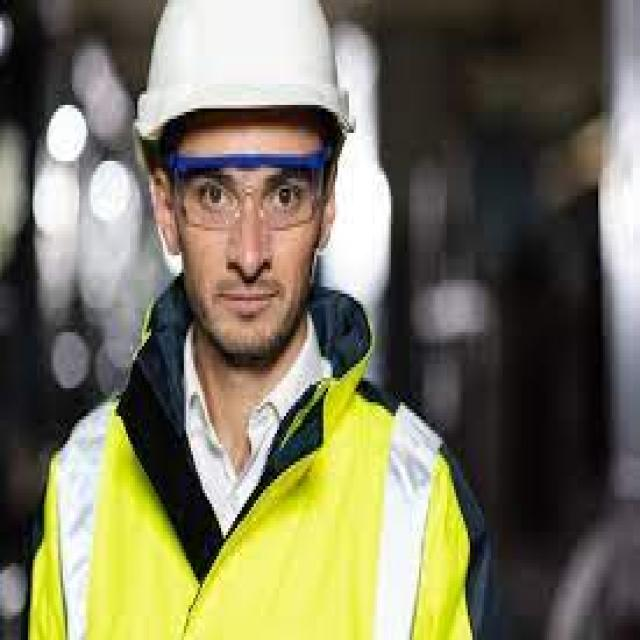glasses: (168, 147, 328, 234)
